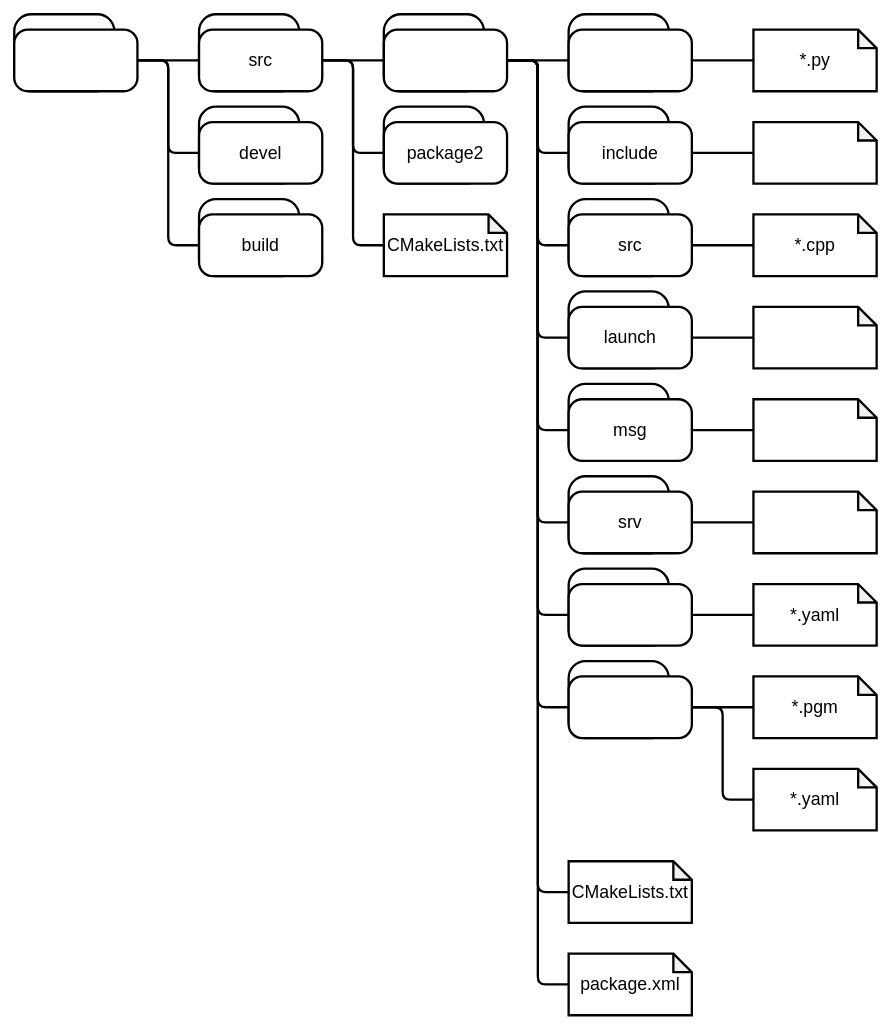
Some shapes in this 891 by 1029 pixel diagram are drawn without their labels. The shapes that lost their labels are listed below. From the top down, each one's centre as x and y in pixels, then its label:
At [75,60]: "catkin_ws".
At [445,60]: "package1".
At [630,60]: "scripts".
At [814,152]: "*.h".
At [814,337]: "*.launch".
At [814,430]: "*.msg".
At [814,522]: "*.srv".
At [630,614]: "param".
At [630,707]: "worlds".
